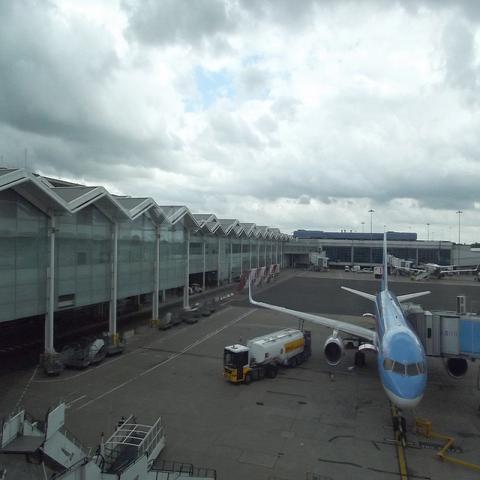truck: (223, 326, 308, 384)
